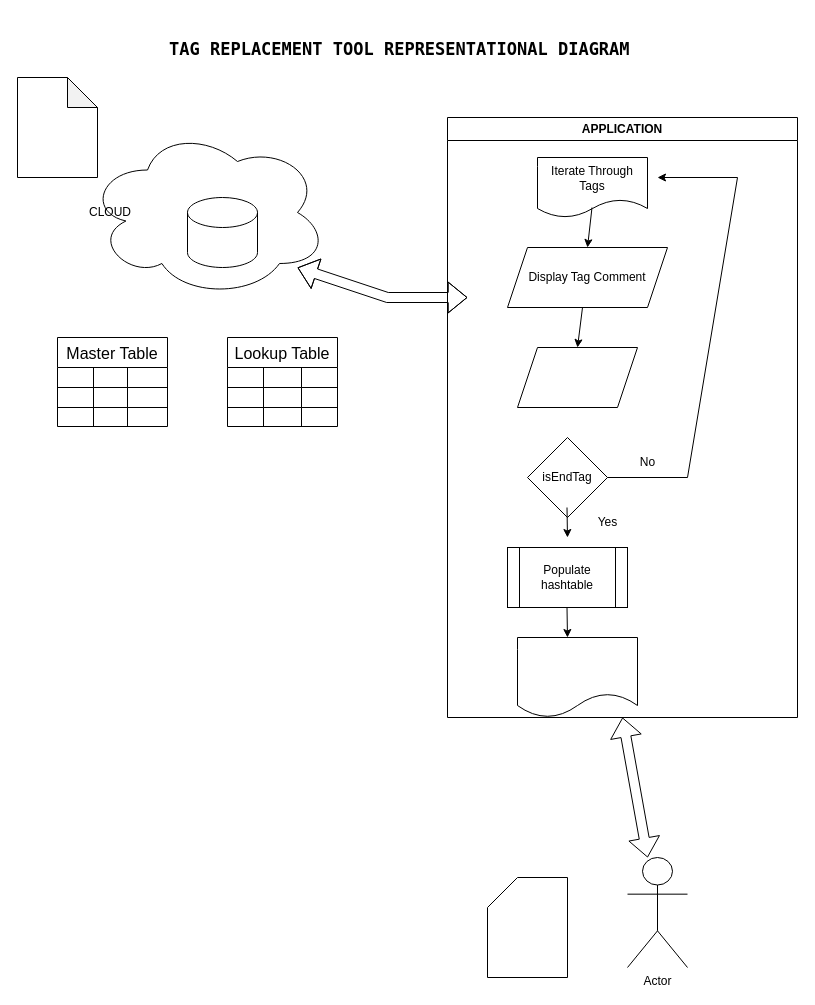
Some shapes in this 815 by 1005 pixel diagram are drawn without their labels. Each missing label, with the centre of its shape:
DB: the point at 222,232
FINAL DATA: the point at 527,927
Replace Tags and Display Final Content: the point at 577,677
TAGGED DATA: the point at 57,127
Take User I/P: the point at 577,377
